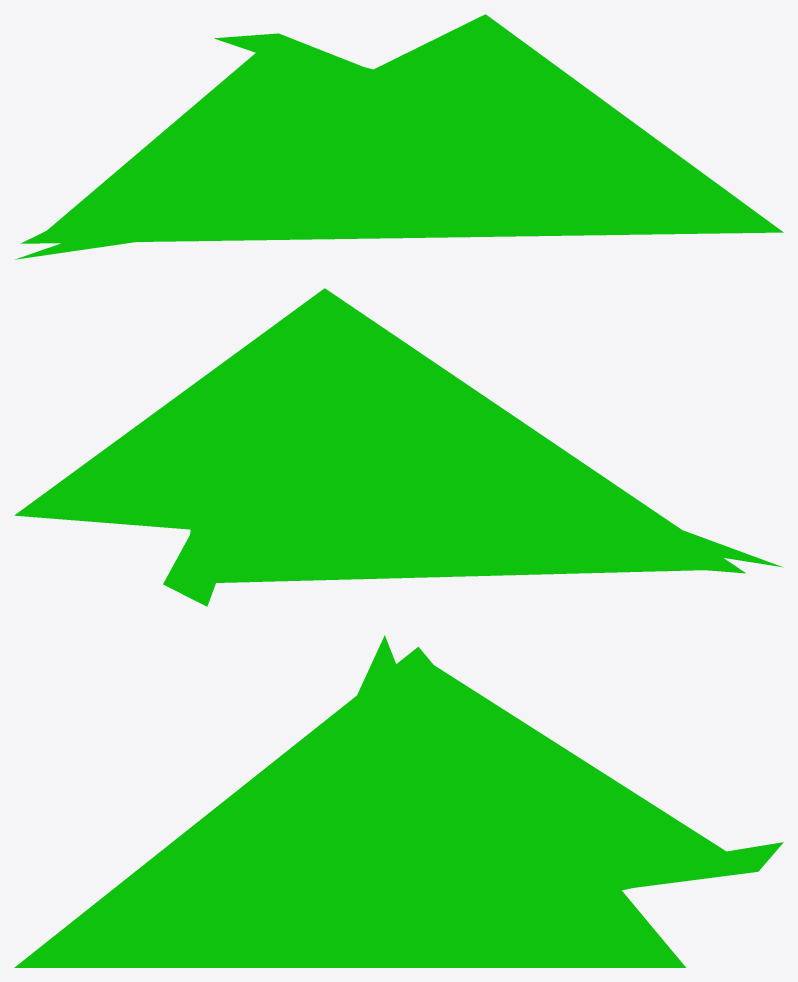
3 renders of one model, top to bottom at view 1: azimuth 30°, elevation 25°; view 2: azimuth 150°, elevation 25°; view 3: azimuth 270°, elevation 25°, orthographic. The views are drawn at different scales.
Size of the model in its own units: 196 by 0 by 192.
